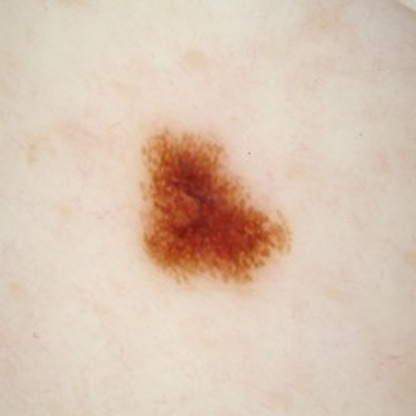malignant: (150, 146, 264, 268)
